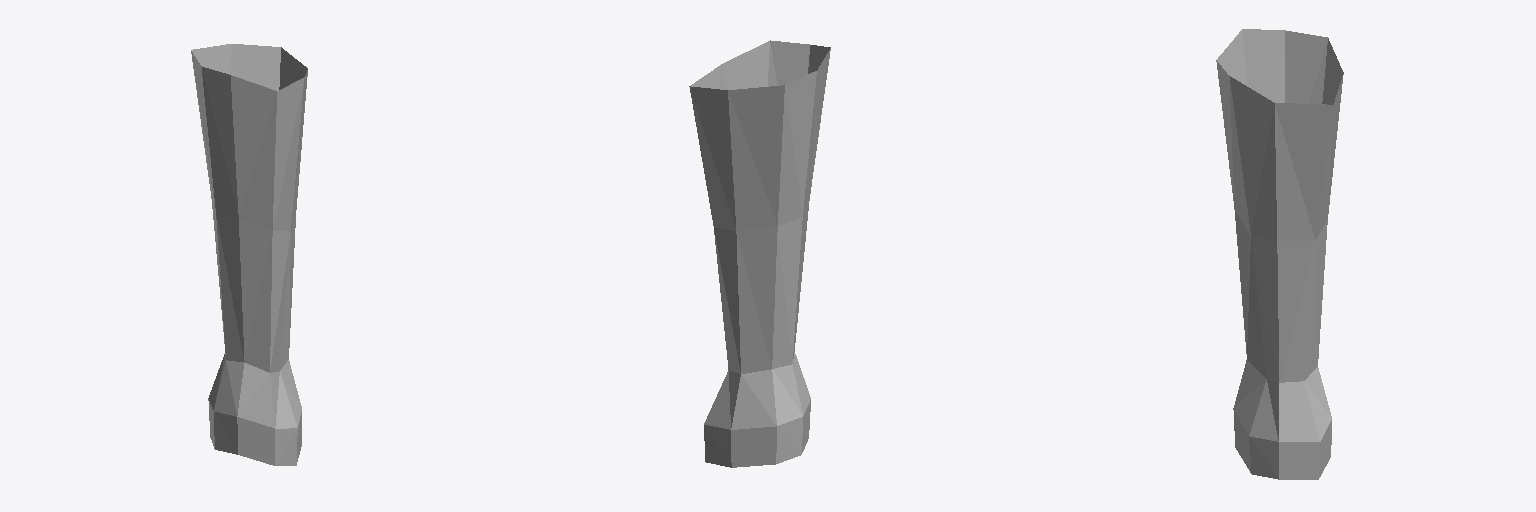
The model's file is upperLleg.obj.
3 renders of one model, left to right at view 1: azimuth 30°, elevation 25°; view 2: azimuth 150°, elevation 25°; view 3: azimuth 270°, elevation 25°, orthographic.
Visible parts, largest first — view 1: upperLleg_Cube.005; view 2: upperLleg_Cube.005; view 3: upperLleg_Cube.005.
Boxes of the visible parts, x1,y1,x2,y2 form: upperLleg_Cube.005: [191, 44, 307, 465]; upperLleg_Cube.005: [689, 40, 830, 467]; upperLleg_Cube.005: [1216, 29, 1343, 479].
Size of the model in its own units: 0.4483 by 1.7 by 0.4773.